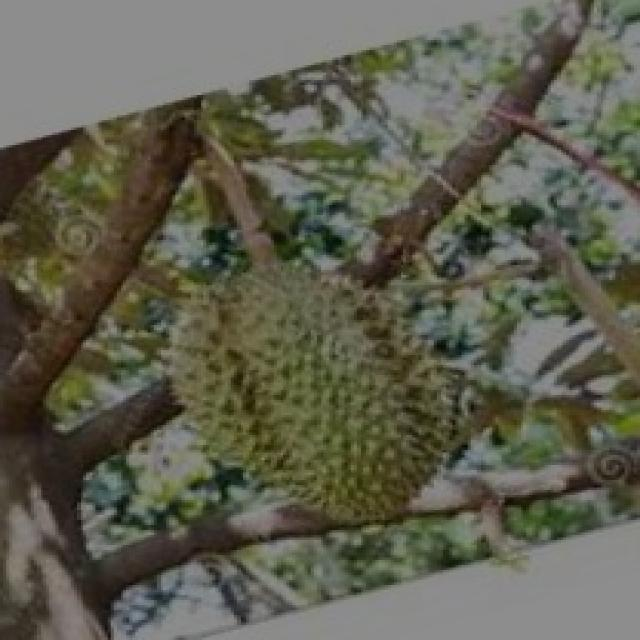fruit: (123, 220, 502, 560)
